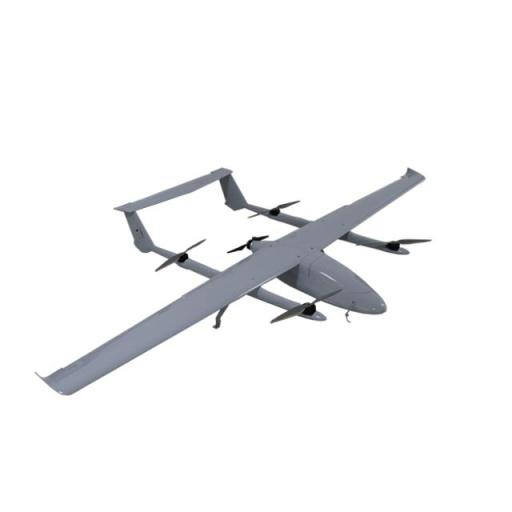uav: (30, 158, 443, 400)
